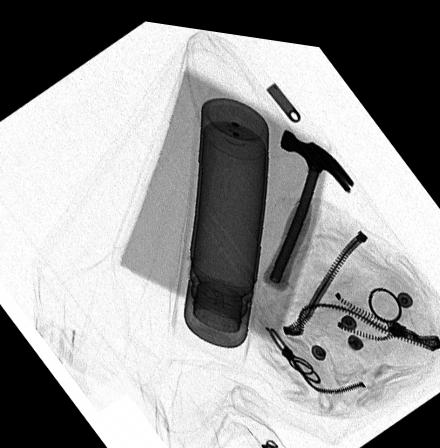Hammer: (261, 120, 354, 284)
